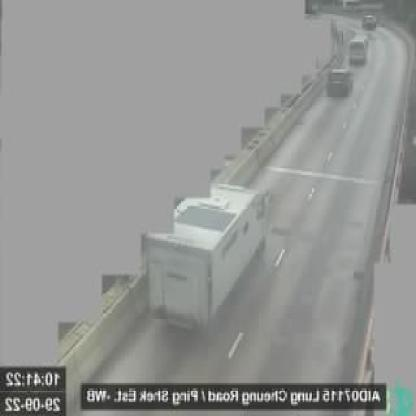Car: (320, 62, 357, 100), (344, 27, 372, 68), (359, 10, 378, 28)
Truck: (144, 173, 280, 343)
